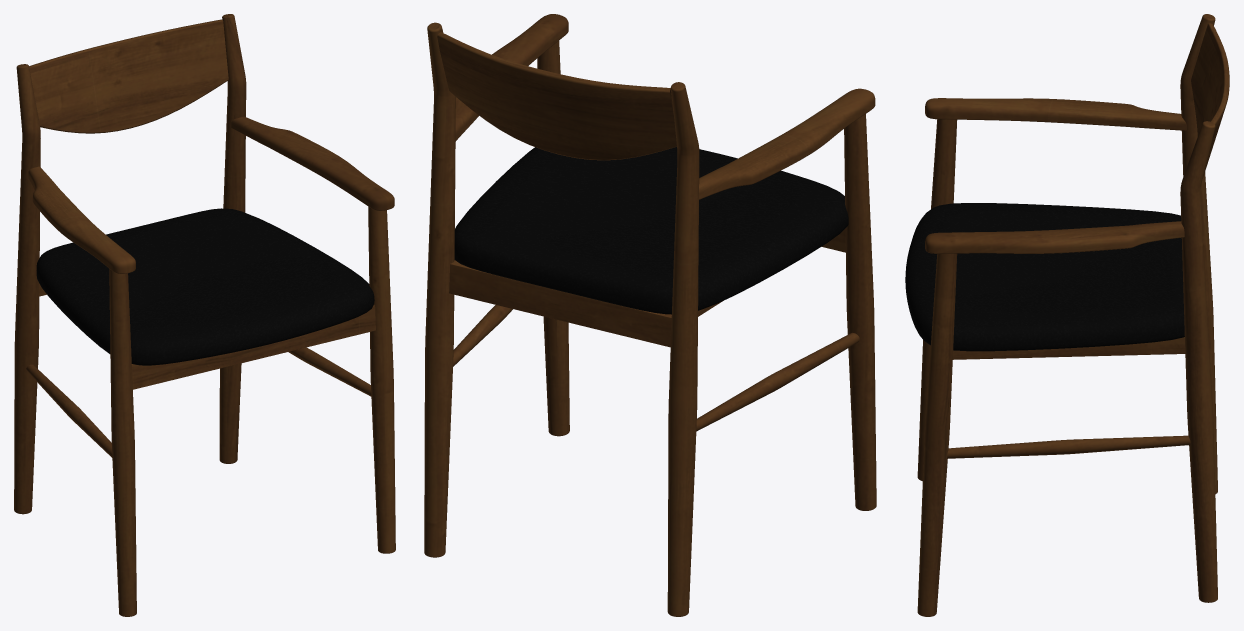
The model's file is chair_54.001.fbx.
3 renders of one model, left to right at view 1: azimuth 30°, elevation 25°; view 2: azimuth 150°, elevation 25°; view 3: azimuth 270°, elevation 25°, orthographic. The views are drawn at different scales.
Parts seen in each view (by area): view 1: chair_54.001; view 2: chair_54.001; view 3: chair_54.001.
Part boxes in pixels (x1,y1,x2,y2): chair_54.001: (14, 14, 395, 616); chair_54.001: (424, 14, 876, 616); chair_54.001: (905, 14, 1229, 616).
Size of the model in its own units: 50.2 by 76.31 by 47.01.
Materials: 1 (1 with a texture image).
